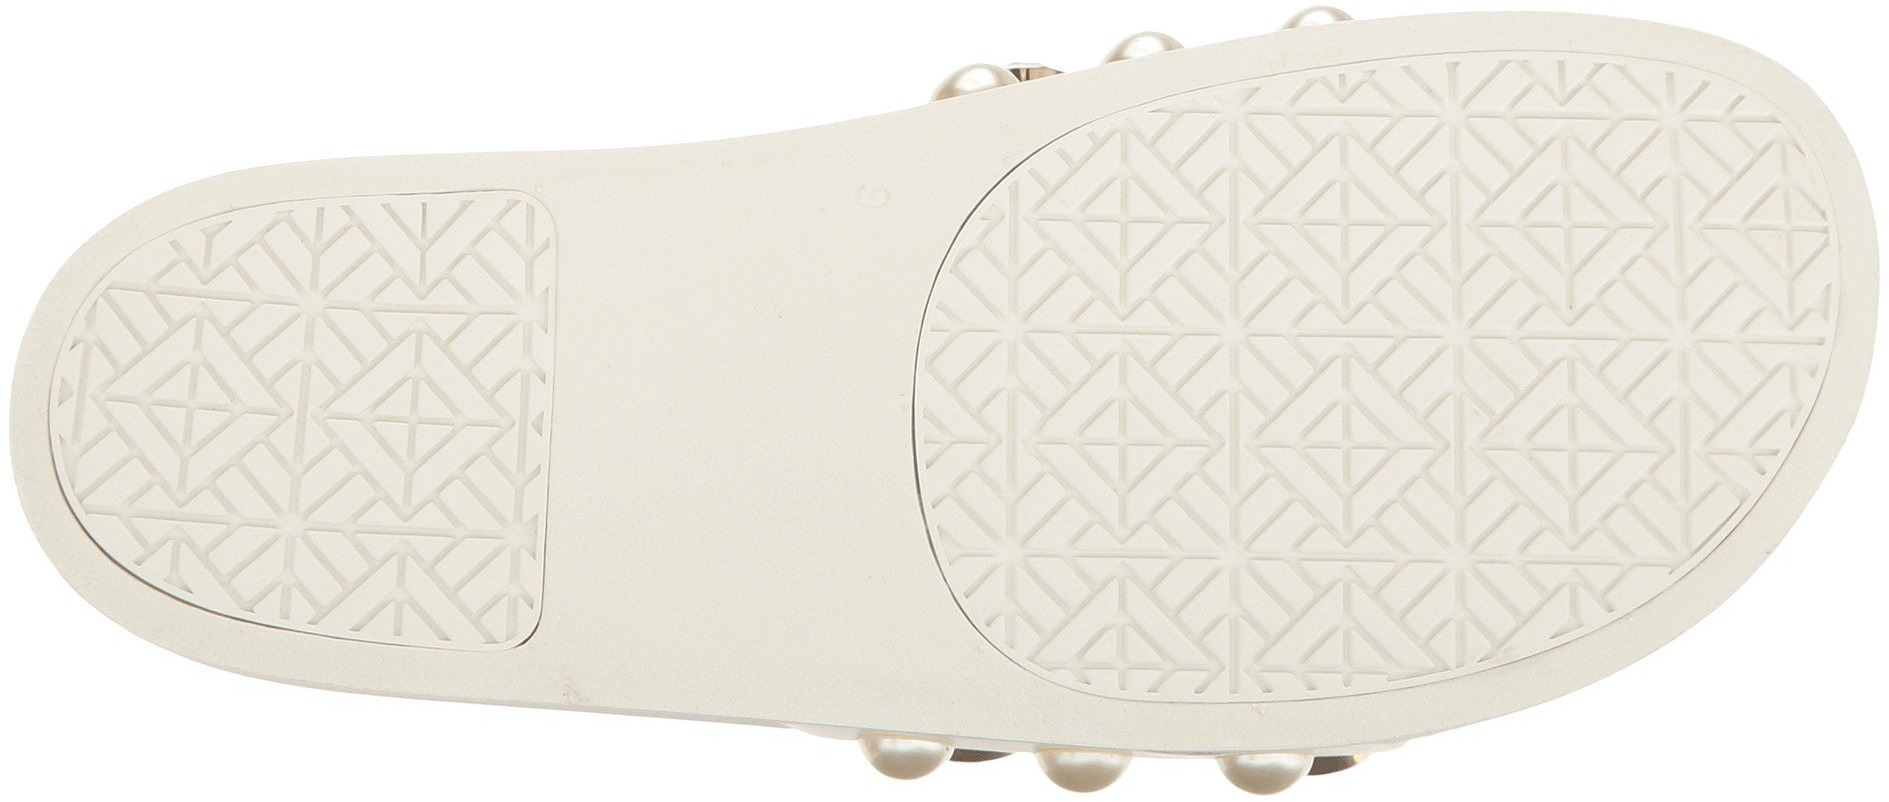other: (564, 393, 802, 627), (561, 169, 814, 385), (810, 550, 934, 680)
quad: (1457, 70, 1703, 300), (302, 225, 546, 454), (964, 235, 1194, 458), (1444, 300, 1671, 521), (1016, 100, 1238, 316), (1204, 104, 1434, 312), (1197, 322, 1431, 515), (973, 467, 1181, 662), (99, 287, 292, 460), (299, 467, 479, 633), (1211, 523, 1382, 691)
star: (973, 467, 1181, 662), (965, 491, 1059, 607)
text: (841, 167, 906, 231)
triangle: (1457, 70, 1703, 300), (302, 225, 546, 454), (964, 235, 1194, 458), (1444, 300, 1671, 521), (1016, 100, 1238, 316), (1204, 104, 1434, 312), (1197, 322, 1431, 515), (973, 467, 1181, 662), (99, 287, 292, 460), (299, 467, 479, 633), (1211, 523, 1382, 691)
